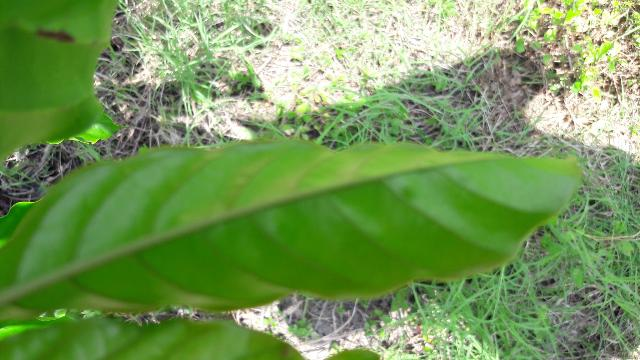healthy: (0, 137, 580, 314)
